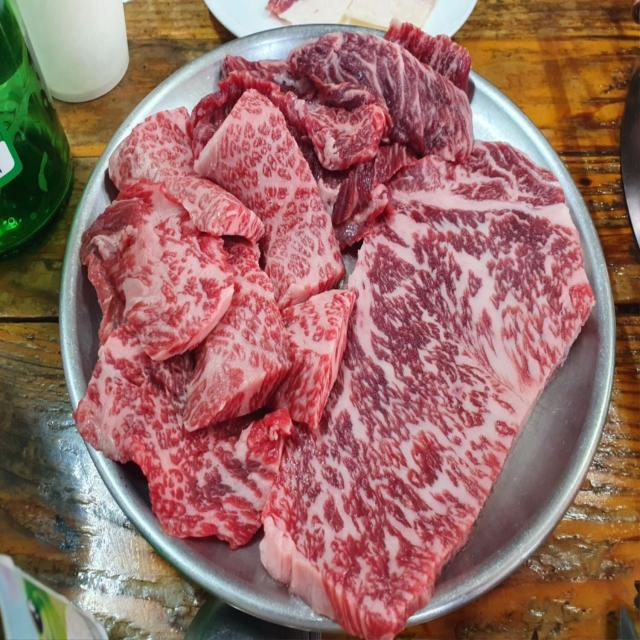beef: (113, 138, 355, 468), (343, 186, 563, 525), (304, 34, 462, 195)
